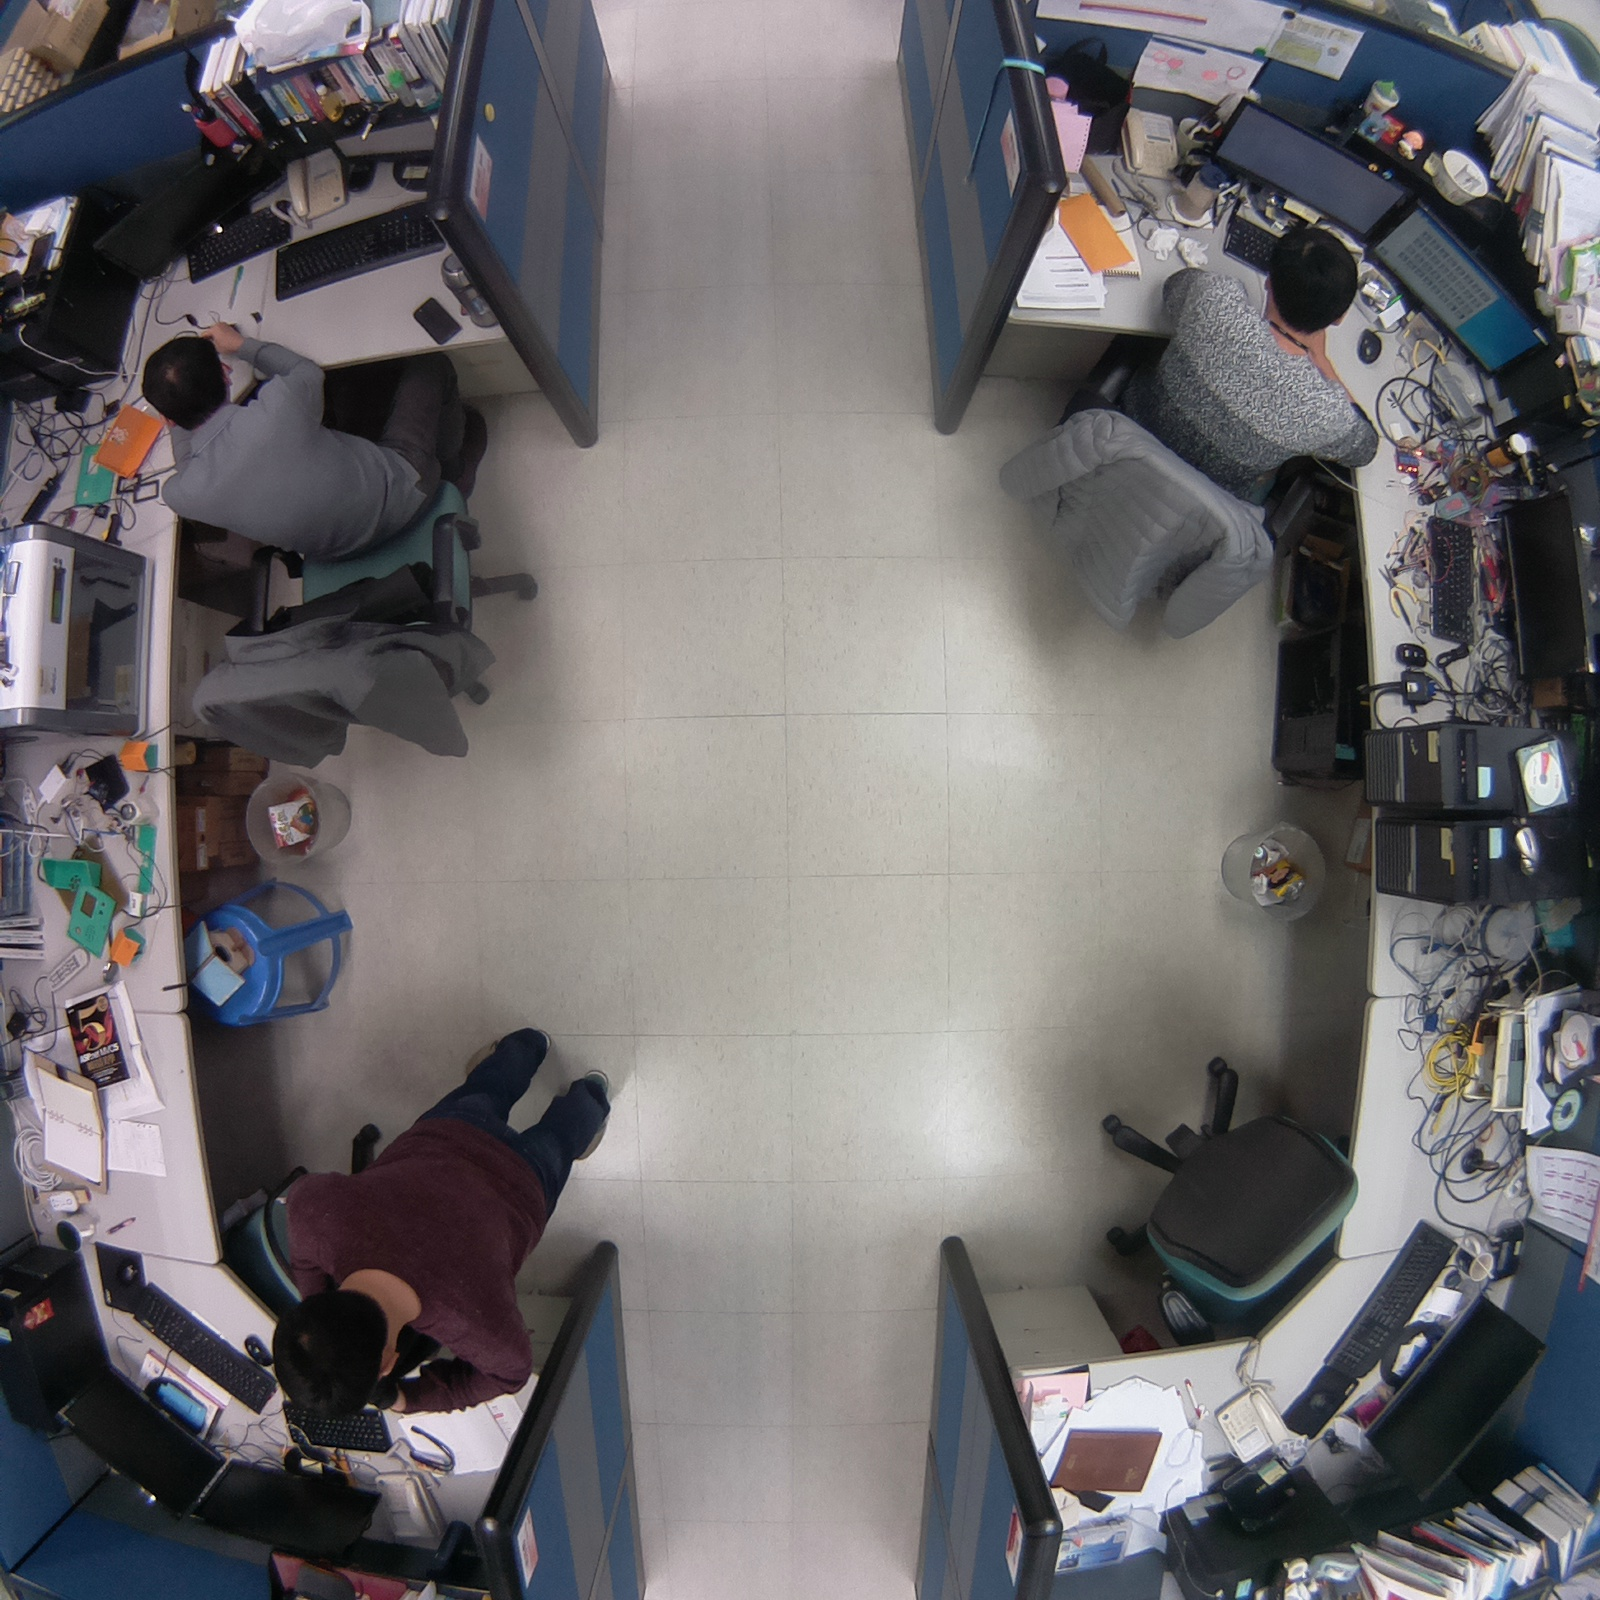chair: (1068, 1045, 1370, 1363)
head: (261, 1280, 406, 1421), (1257, 214, 1359, 342), (134, 338, 234, 434)
sitting: (125, 321, 560, 786), (991, 220, 1382, 658)
standing: (255, 1006, 629, 1432)
